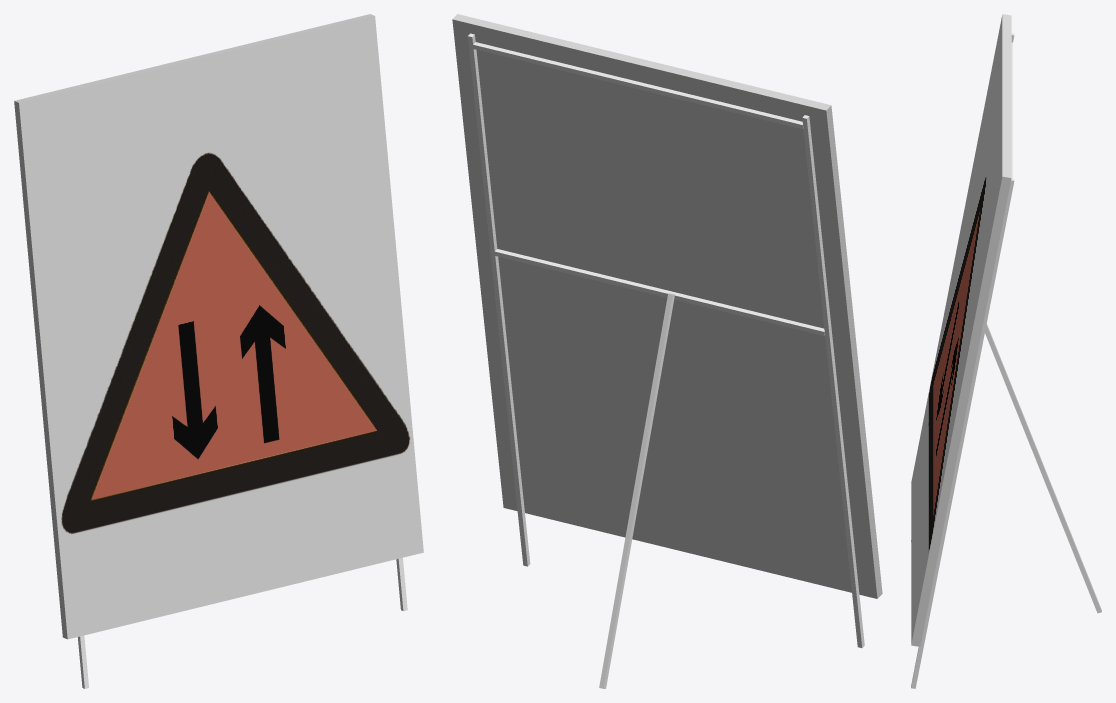
The model's file is 双向车道-B.glb.
The picture shows the model from 3 angles, left to right: view 1: azimuth 30°, elevation 25°; view 2: azimuth 150°, elevation 25°; view 3: azimuth 270°, elevation 25°; orthographic projection. The views are drawn at different scales.
Visible parts, largest first — view 1: 立方体-材质.3, 立方体-材质.5; view 2: 立方体-材质.5, 立方体.4, 立方体.3, 立方体.7, 立方体.5, 立方体.6; view 3: 立方体-材质.3, 立方体-材质.5, 立方体.3, 立方体.7.
Part boxes in pixels (<box>): 立方体-材质.3: <box>19,16,423,639</box>; 立方体-材质.5: <box>14,14,374,639</box>; 立方体-材质.5: <box>452,14,882,598</box>; 立方体.4: <box>802,115,864,647</box>; 立方体.3: <box>468,33,530,566</box>; 立方体.7: <box>599,293,674,688</box>; 立方体.5: <box>469,42,803,129</box>; 立方体.6: <box>491,249,824,336</box>; 立方体-材质.3: <box>911,15,1002,643</box>; 立方体-材质.5: <box>911,14,1011,646</box>; 立方体.3: <box>911,178,1014,688</box>; 立方体.7: <box>985,323,1101,613</box>.
Size of the model in its own units: 5.71 by 8.56 by 2.83.
3 materials, 1 textured.
